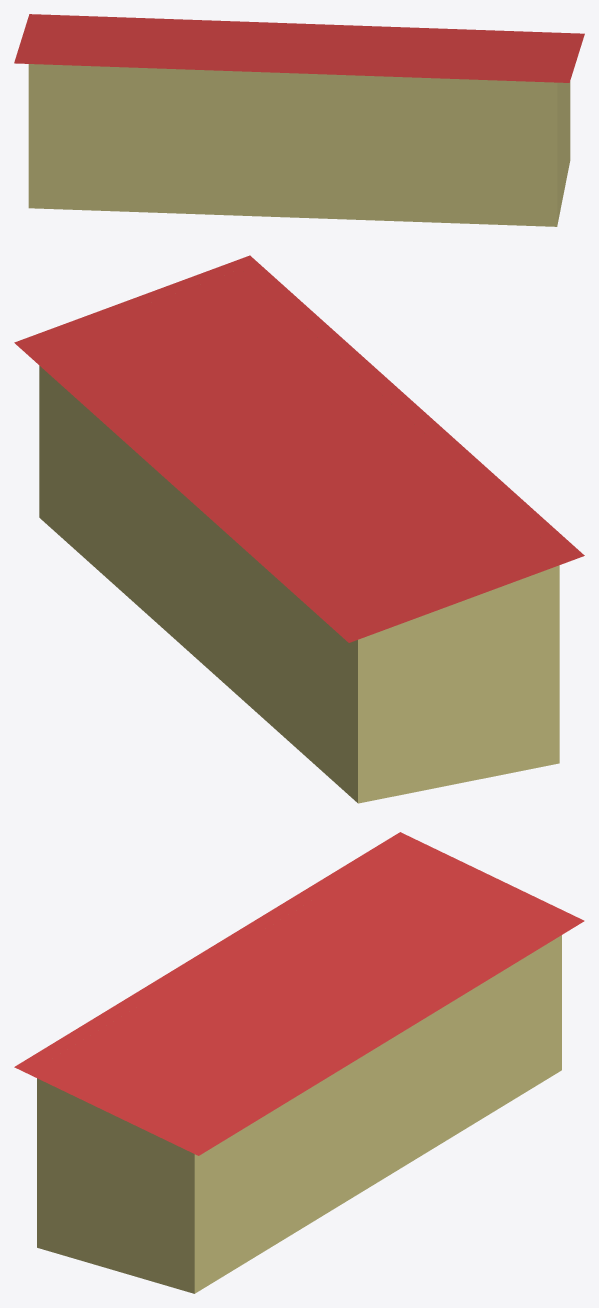
3 views of the same model, one above another, from view 1: azimuth 30°, elevation 25°; view 2: azimuth 150°, elevation 25°; view 3: azimuth 270°, elevation 25° (orthographic). The views are drawn at different scales.
Bounding box in the file's own units: 20.75 × 17.3 × 6.1.
